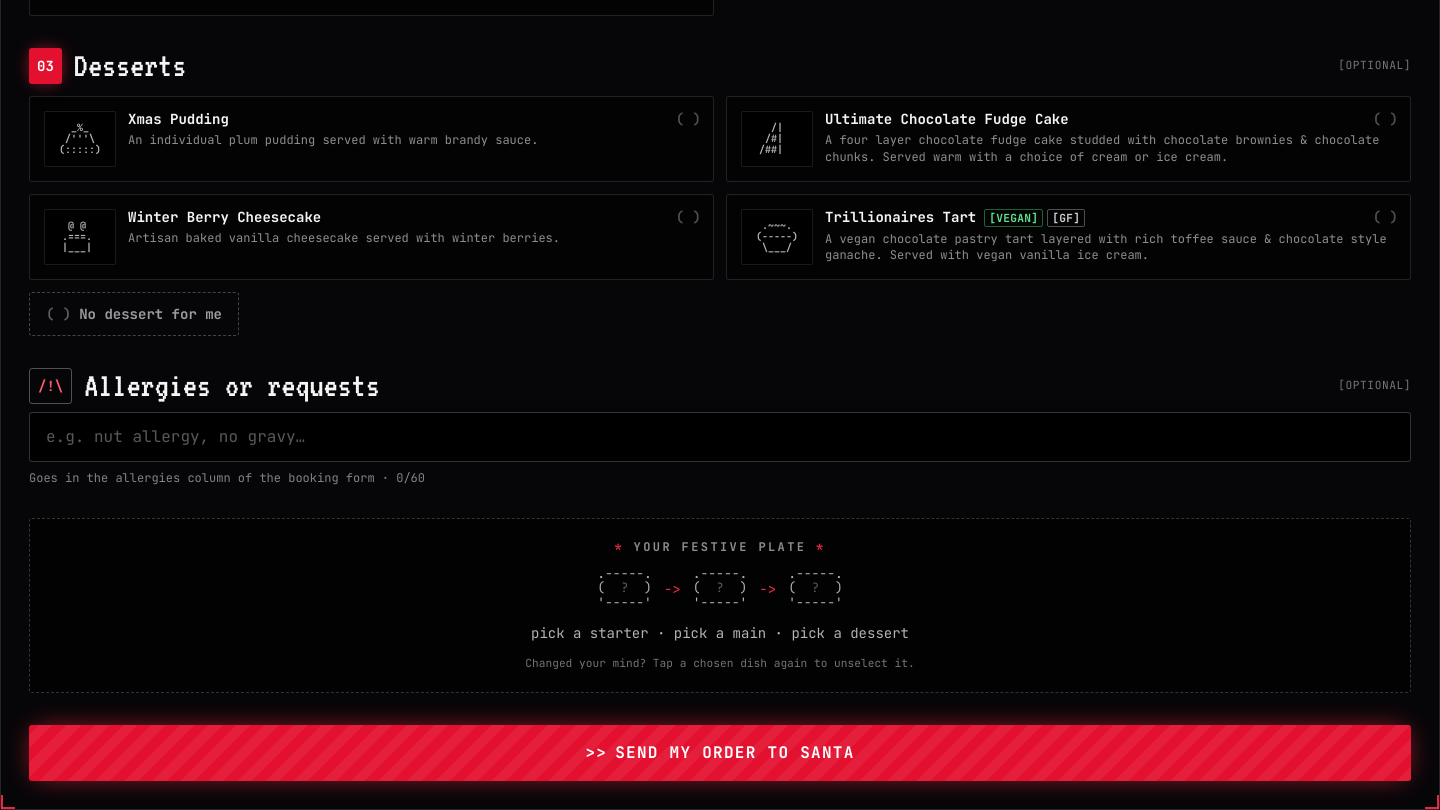
Test: OrderForm › highlights everything missing instead of submitting an empty order
The image size is (1440, 810).
(page scrolled)
Click the button ">> Send my order to Santa": (720, 753) [29,725,1411,781]
(page scrolled)
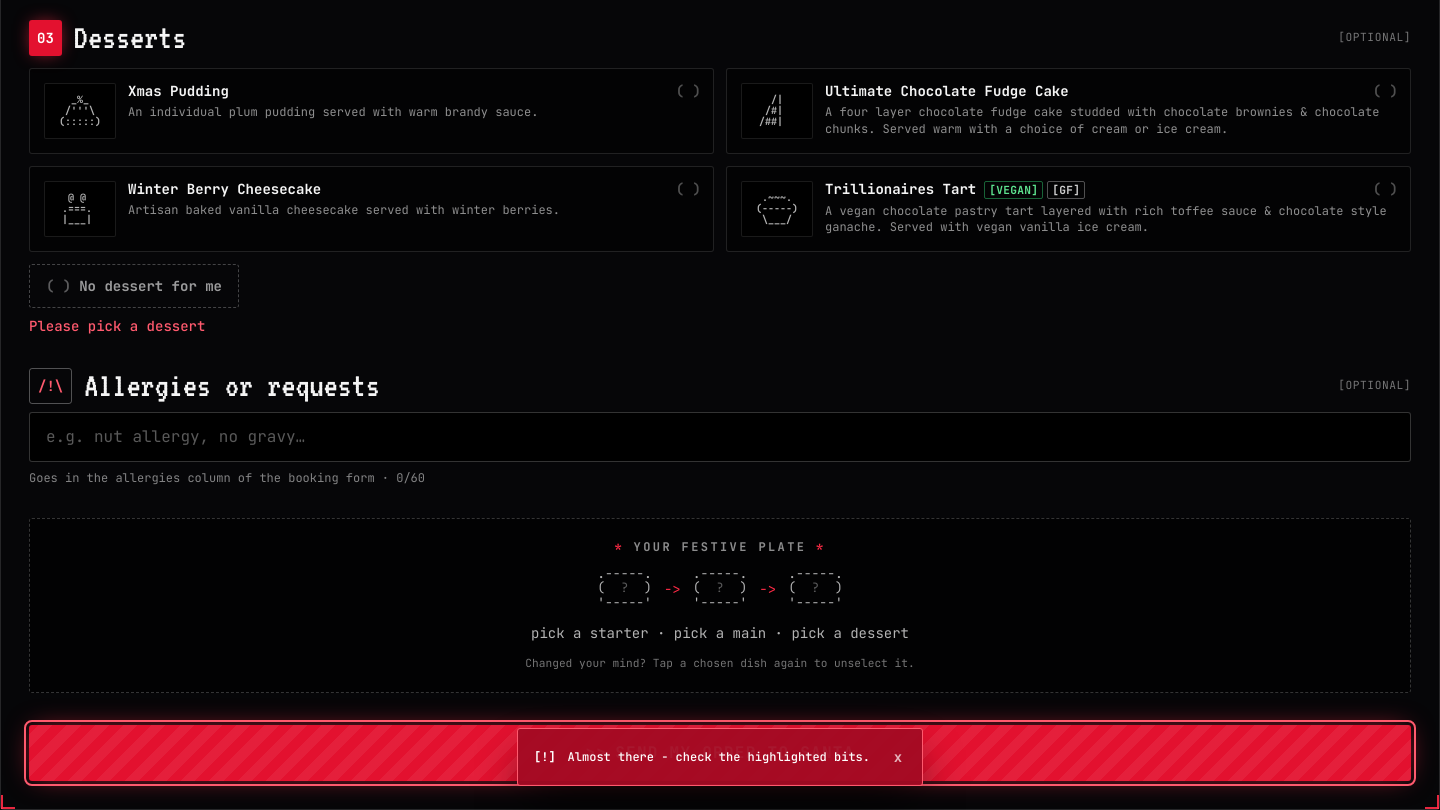
Now the text "Please pick a dessert" is shown, box [29,316,205,334]
